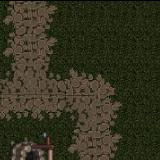Hide: (0, 126, 65, 160)
